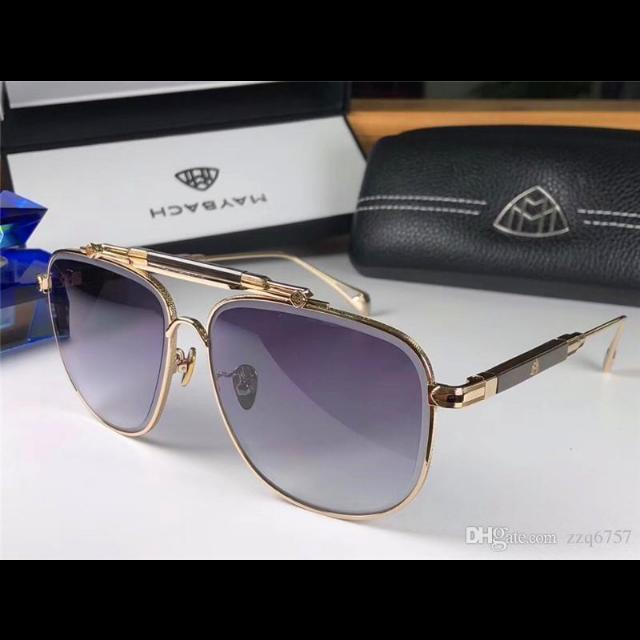sunglasses: (36, 241, 626, 519)
